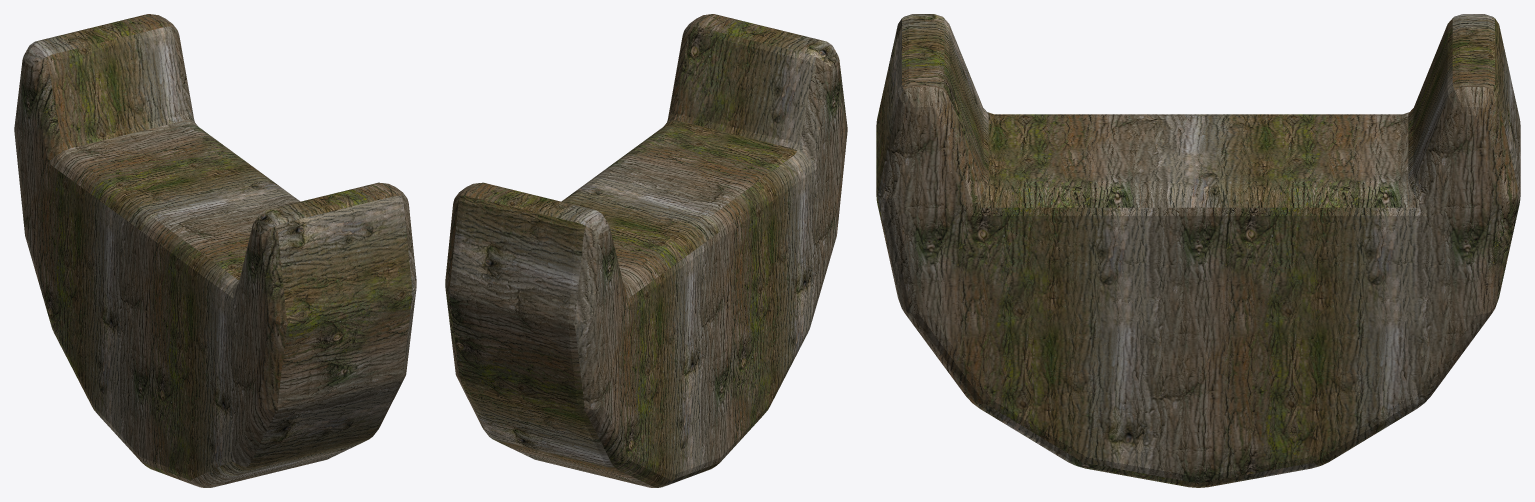
The model's file is Tree.fbx.
3 views of the same model, side by side, from view 1: azimuth 30°, elevation 25°; view 2: azimuth 150°, elevation 25°; view 3: azimuth 270°, elevation 25° (orthographic). The views are drawn at different scales.
Visible parts, largest first — view 1: Circle; view 2: Circle; view 3: Circle.
Boxes of the visible parts, x1=… form: Circle: x1=14, y1=14, x2=416, y2=487; Circle: x1=445, y1=14, x2=847, y2=487; Circle: x1=876, y1=14, x2=1520, y2=487.
Bounding box in the file's own units: 96 × 207 × 299.
